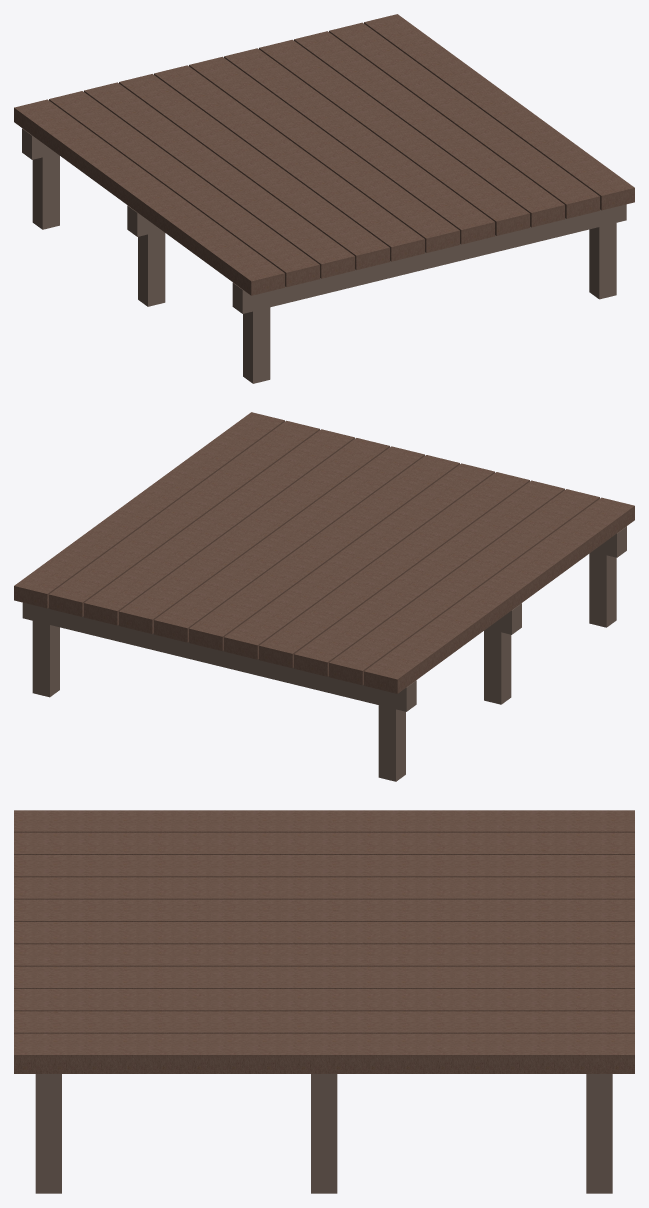
File: ecowood2grande_1666-1782_ darkbrown.fbx
The picture shows the model from 3 angles, top to bottom: view 1: azimuth 30°, elevation 25°; view 2: azimuth 150°, elevation 25°; view 3: azimuth 270°, elevation 25°; orthographic projection. The views are drawn at different scales.
Visible parts, largest first — view 1: ecowood2grande_1666-1782_ dark brown; view 2: ecowood2grande_1666-1782_ dark brown; view 3: ecowood2grande_1666-1782_ dark brown.
Boxes of the visible parts, x1,y1,x2,y2 form: ecowood2grande_1666-1782_ dark brown: (14,14,634,383); ecowood2grande_1666-1782_ dark brown: (14,412,634,781); ecowood2grande_1666-1782_ dark brown: (14,810,634,1193).
Bounding box in the file's own units: 166 × 46 × 178.
Materials: 2 (1 with a texture image).
